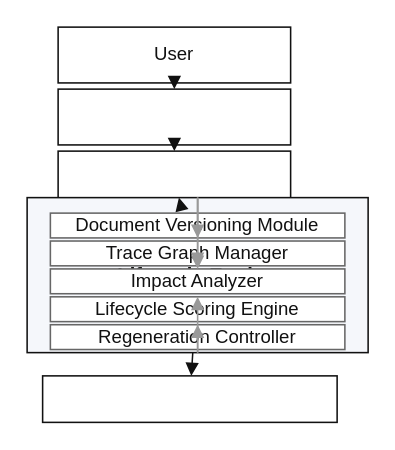
Image size: 395x450. Some labels were removed from this diagram. Here are the shapes that lost their labels. From the top down, the centre of each, then its label:
At point (174, 116): "Frontend (Prompt2PR UI)".
At point (174, 178): "API Layer (FastAPI)".
At point (189, 398): "PostgreSQL (Trace + Artifact Storage)".
